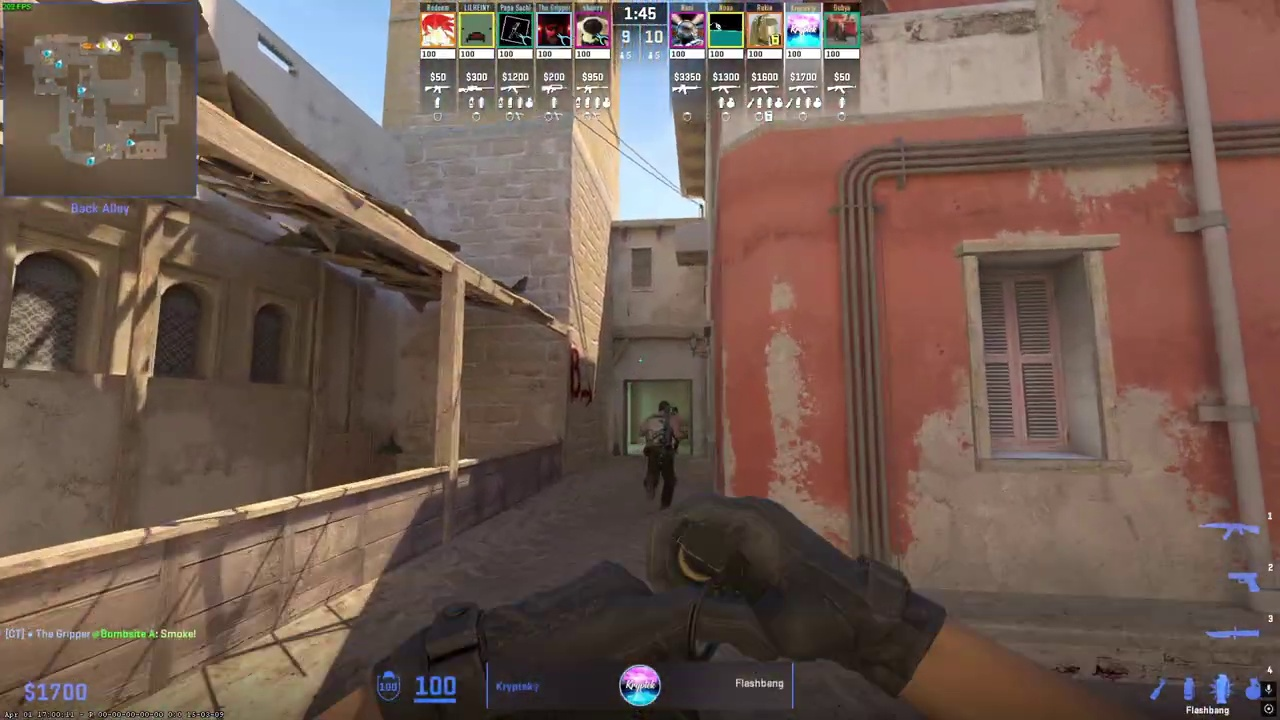Terrorist: (639, 400, 684, 510)
